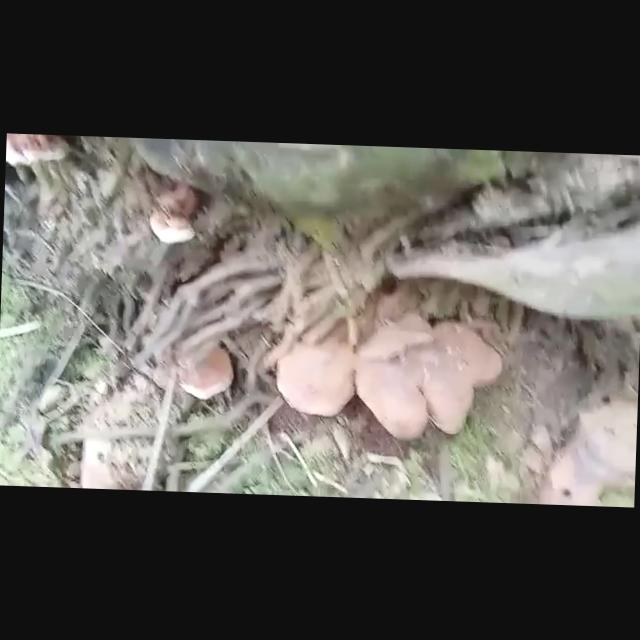ganoderma: (351, 312, 507, 447), (273, 343, 360, 421), (176, 344, 236, 403), (147, 208, 198, 246)
